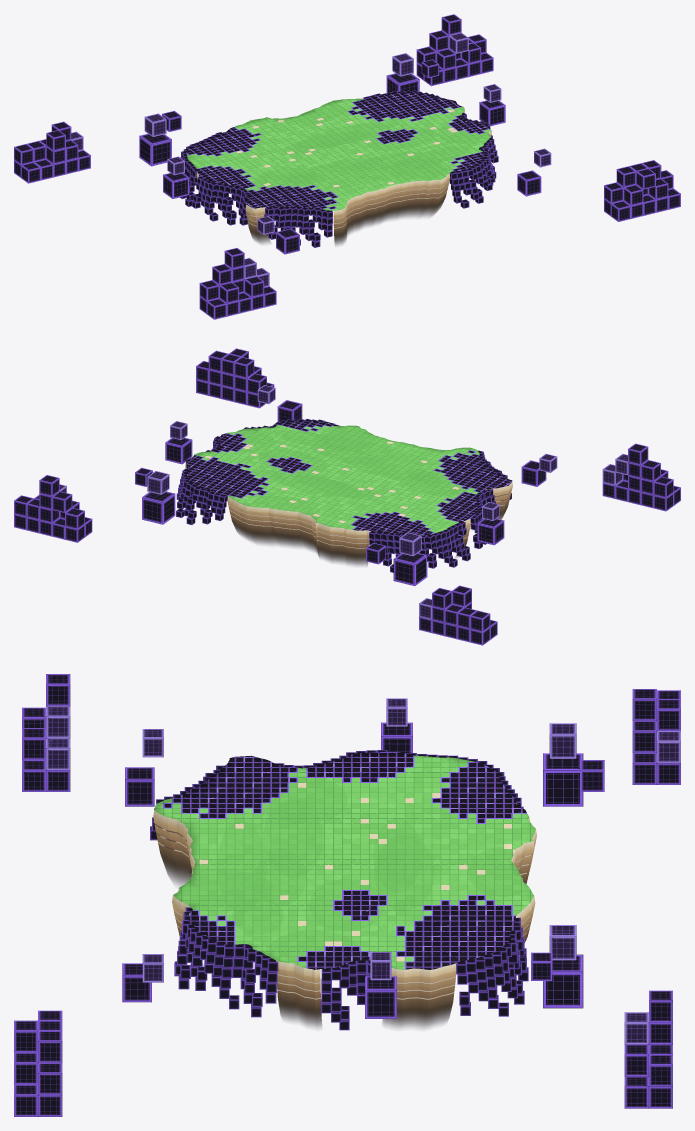
Rendered from digi_farm_3d.glb.
The picture shows the model from 3 angles, top to bottom: view 1: azimuth 30°, elevation 25°; view 2: azimuth 150°, elevation 25°; view 3: azimuth 270°, elevation 25°; orthographic projection. The views are drawn at different scales.
Parts seen in each view (by area): view 1: Island, IslandVoxelEdge, VoxelFragmentsFar03, VoxelFragmentsFar04, VoxelFragmentsFar02, VoxelFragmentsFar01, VoxelFragmentsNear01, VoxelFragmentsNear02, VoxelFragmentsNear03, VoxelFragmentsNear04, VoxelFragmentsNear06, VoxelFragmentsNear05; view 2: Island, IslandVoxelEdge, VoxelFragmentsFar03, VoxelFragmentsFar02, VoxelFragmentsFar01, VoxelFragmentsFar04, VoxelFragmentsNear01, VoxelFragmentsNear02, VoxelFragmentsNear03, VoxelFragmentsNear04, VoxelFragmentsNear05, VoxelFragmentsNear06; view 3: Island, IslandVoxelEdge, VoxelFragmentsFar02, VoxelFragmentsFar04, VoxelFragmentsFar03, VoxelFragmentsFar01, VoxelFragmentsNear01, VoxelFragmentsNear02, VoxelFragmentsNear04, VoxelFragmentsNear05, VoxelFragmentsNear06, VoxelFragmentsNear03.
Boxes of the visible parts, bbox=[...] form: Island: bbox=[186, 92, 491, 245]; IslandVoxelEdge: bbox=[180, 90, 498, 247]; VoxelFragmentsFar03: bbox=[199, 248, 276, 319]; VoxelFragmentsFar04: bbox=[604, 160, 680, 221]; VoxelFragmentsFar02: bbox=[416, 14, 493, 86]; VoxelFragmentsFar01: bbox=[14, 121, 90, 183]; VoxelFragmentsNear01: bbox=[139, 111, 181, 166]; VoxelFragmentsNear02: bbox=[386, 53, 439, 92]; VoxelFragmentsNear03: bbox=[163, 156, 189, 198]; VoxelFragmentsNear04: bbox=[479, 84, 505, 126]; VoxelFragmentsNear06: bbox=[517, 148, 551, 196]; VoxelFragmentsNear05: bbox=[257, 216, 299, 254]; Island: bbox=[185, 420, 512, 565]; IslandVoxelEdge: bbox=[176, 419, 511, 572]; VoxelFragmentsFar03: bbox=[602, 443, 680, 511]; VoxelFragmentsFar02: bbox=[14, 475, 92, 542]; VoxelFragmentsFar01: bbox=[419, 585, 497, 645]; VoxelFragmentsFar04: bbox=[196, 348, 274, 408]; VoxelFragmentsNear01: bbox=[366, 532, 427, 585]; VoxelFragmentsNear02: bbox=[135, 467, 175, 524]; VoxelFragmentsNear03: bbox=[477, 502, 504, 545]; VoxelFragmentsNear04: bbox=[165, 421, 192, 464]; VoxelFragmentsNear05: bbox=[521, 454, 557, 486]; VoxelFragmentsNear06: bbox=[257, 385, 302, 421]; Island: bbox=[153, 751, 536, 1028]; IslandVoxelEdge: bbox=[150, 750, 528, 1030]; VoxelFragmentsFar02: bbox=[624, 990, 672, 1108]; VoxelFragmentsFar04: bbox=[14, 1010, 62, 1116]; VoxelFragmentsFar03: bbox=[22, 674, 70, 791]; VoxelFragmentsFar01: bbox=[632, 689, 680, 784]; VoxelFragmentsNear01: bbox=[543, 723, 604, 806]; VoxelFragmentsNear02: bbox=[531, 925, 583, 1008]; VoxelFragmentsNear04: bbox=[365, 952, 396, 1018]; VoxelFragmentsNear05: bbox=[125, 729, 163, 806]; VoxelFragmentsNear06: bbox=[122, 954, 163, 1002]; VoxelFragmentsNear03: bbox=[381, 698, 412, 753].
Size of the model in its own units: 3.36 by 0.49 by 2.49.
5 materials, 5 textured.
